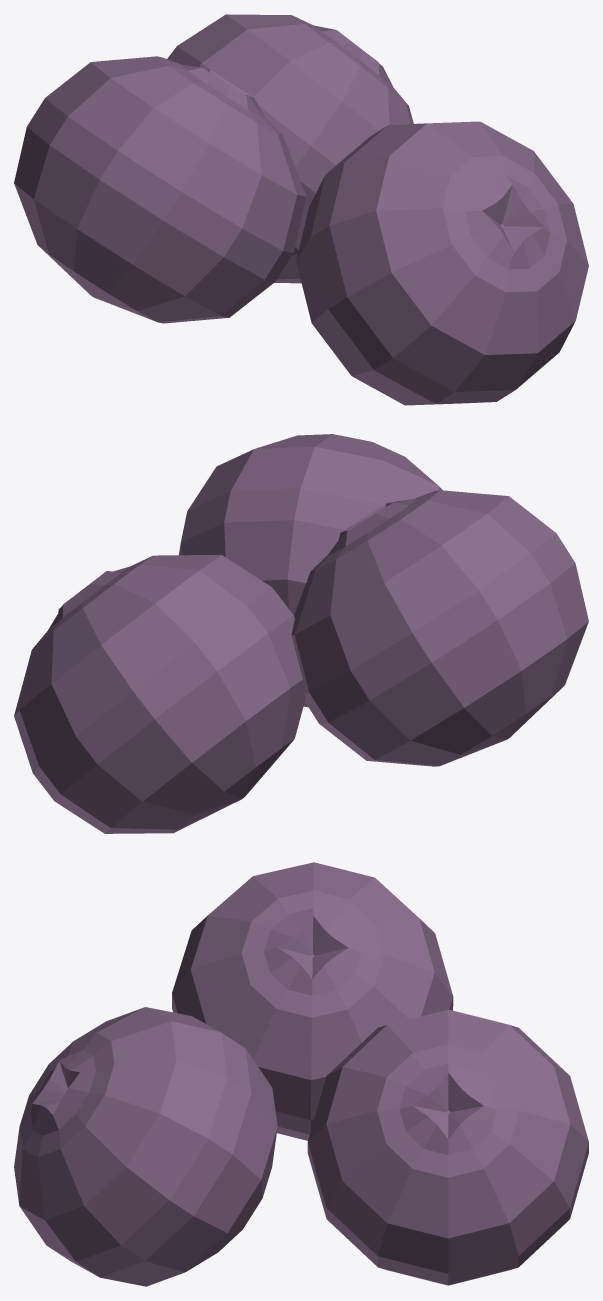
The model's file is Berries.fbx.
The picture shows the model from 3 angles, top to bottom: view 1: azimuth 30°, elevation 25°; view 2: azimuth 150°, elevation 25°; view 3: azimuth 270°, elevation 25°; orthographic projection. The views are drawn at different scales.
Visible parts, largest first — view 1: BlackBerries; view 2: BlackBerries; view 3: BlackBerries.
Part boxes in pixels (x1=…): BlackBerries: x1=14, y1=14, x2=588, y2=405; BlackBerries: x1=14, y1=434, x2=588, y2=833; BlackBerries: x1=14, y1=862, x2=588, y2=1286.
Size of the model in its own units: 4.94 by 3.28 by 5.77.
